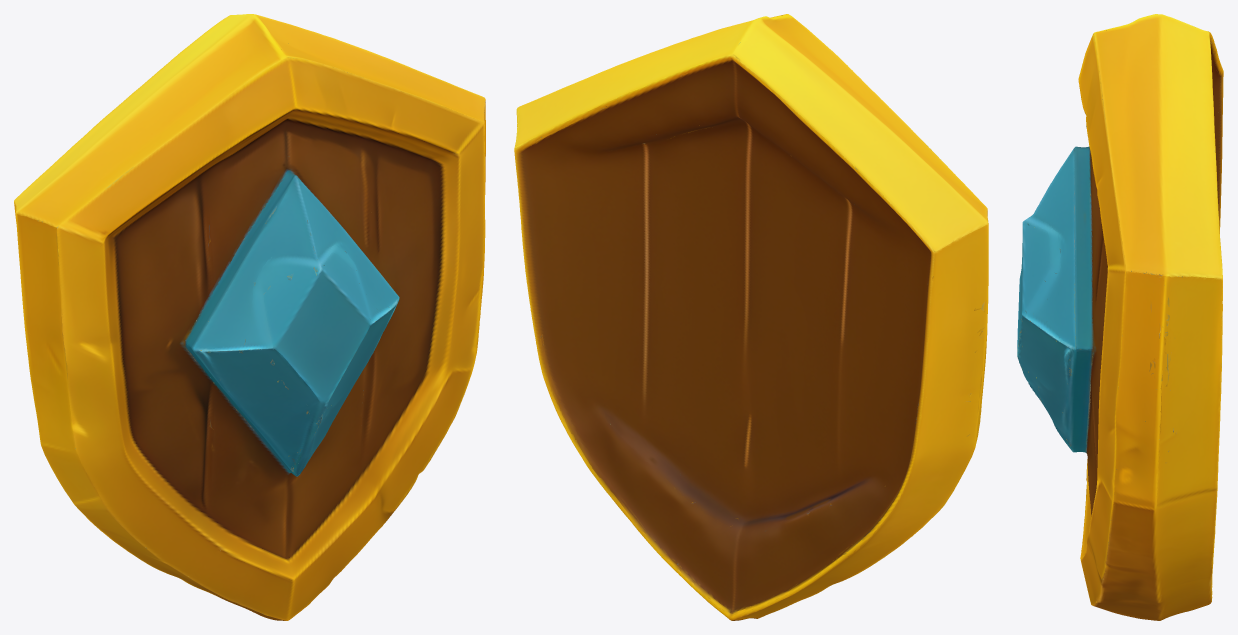
The model's file is base_basic_shaded.fbx.
3 views of the same model, side by side, from view 1: azimuth 30°, elevation 25°; view 2: azimuth 150°, elevation 25°; view 3: azimuth 270°, elevation 25° (orthographic).
Visible parts, largest first — view 1: model; view 2: model; view 3: model.
Part boxes in pixels (bbox=[...]): model: bbox=[14, 14, 485, 620]; model: bbox=[514, 14, 988, 620]; model: bbox=[1017, 14, 1223, 620].
Size of the model in its own units: 156 by 190 by 58.69.
